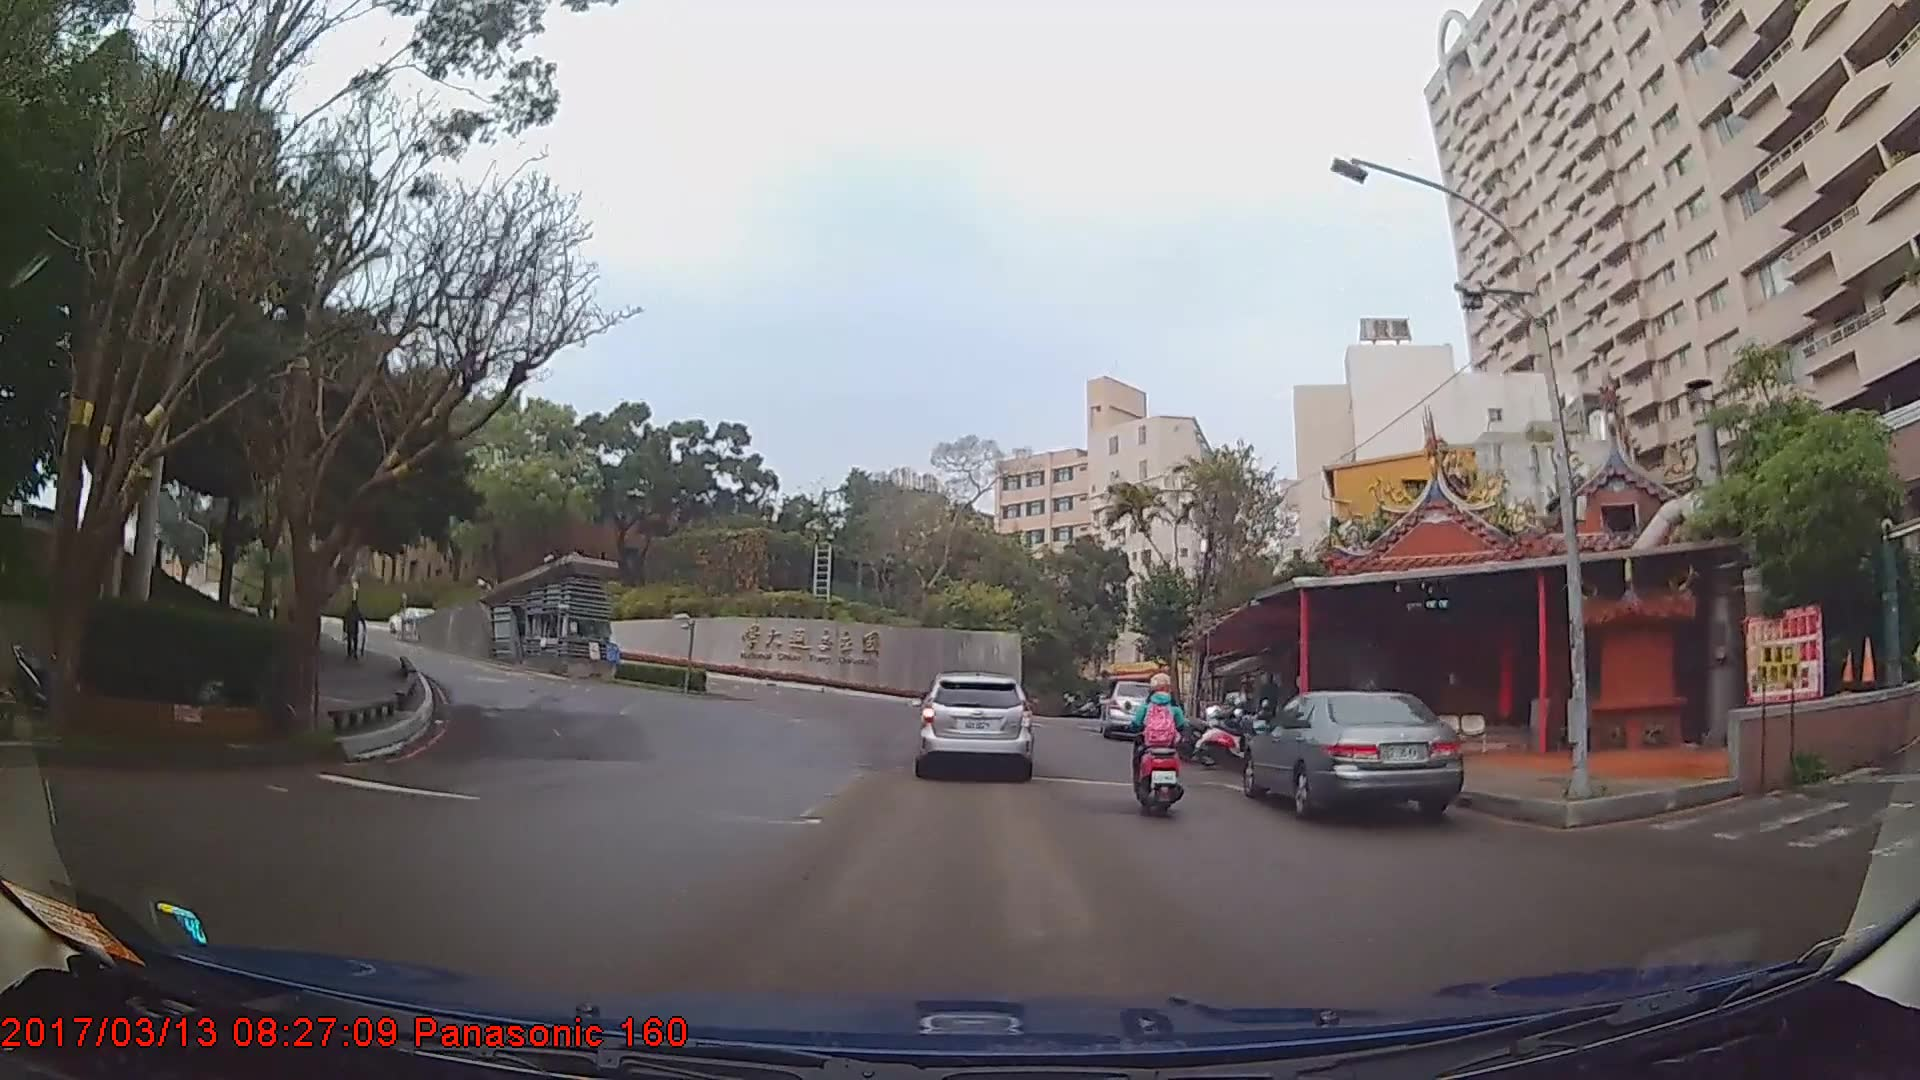pedestrian: (344, 599, 370, 659), (1258, 672, 1282, 736)
rider: (1128, 659, 1194, 813)
vehicle: (1241, 688, 1463, 821), (914, 668, 1030, 777), (1099, 678, 1163, 736)
